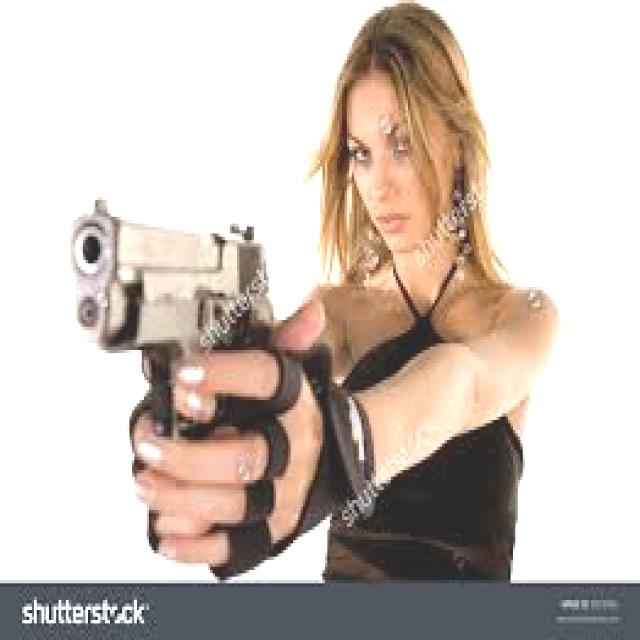pistol: (69, 186, 278, 526)
